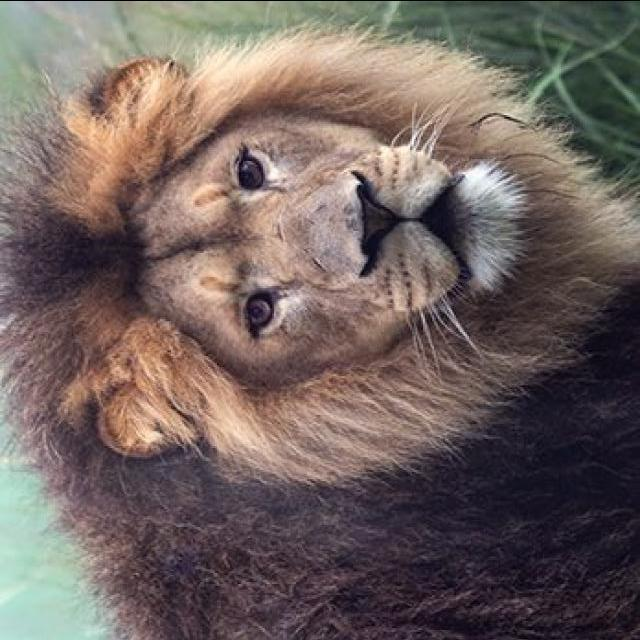lions: (17, 16, 640, 637)
